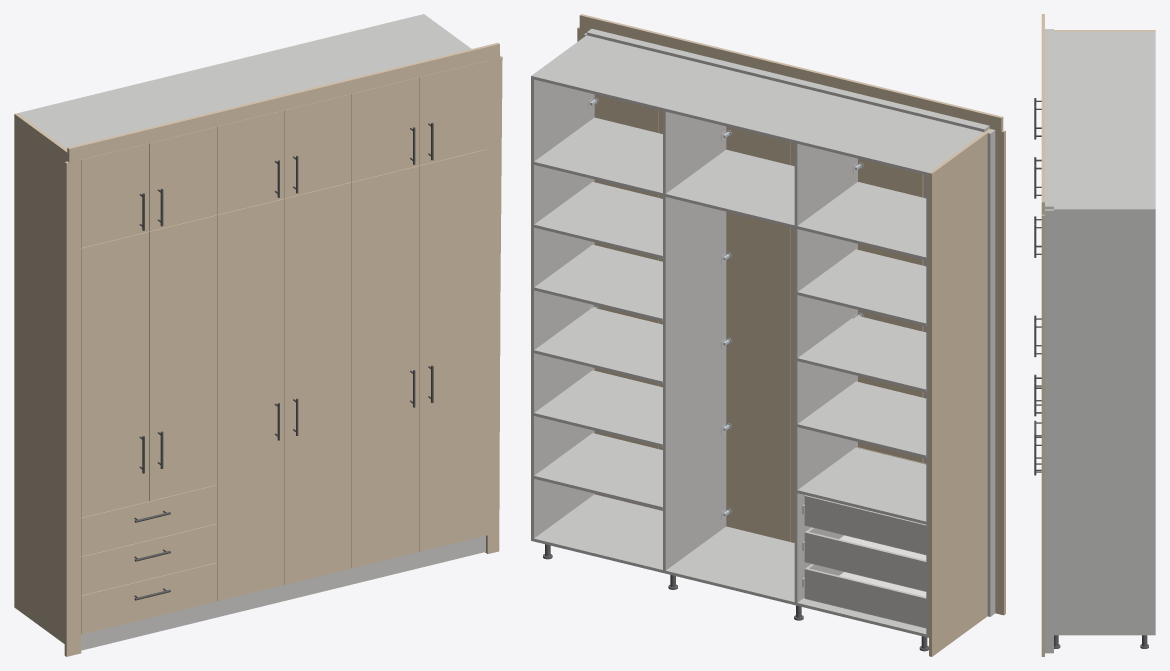
File: wardrobe_builtin.glb
The picture shows the model from 3 angles, left to right: view 1: azimuth 30°, elevation 25°; view 2: azimuth 150°, elevation 25°; view 3: azimuth 270°, elevation 25°; orthographic projection. The views are drawn at different scales.
Parts seen in each view (by area): view 1: 51:side_panel.left, 50:sections[2].doors.door[2], 49:sections[2].doors.door[1], 47:sections[1].doors.door[1], 48:sections[1].doors.door[2], 3:body.top, 45:sections[0].doors.door[1], 46:sections[0].doors.door[2], 52:builtin.filler.left, 56:builtin.filler.top, 54:builtin.filler.right, 5:body.plinth.front (+9 smaller); view 2: 51:side_panel.left, 3:body.top, 9:partition[1], 48:sections[1].doors.door[2], 6:mezzanine.shelf, 2:body.side.right, 4:body.bottom, 7:partition[0], 26:sections[0].divider[0], 29:sections[0].fill[1].shelf[3], 27:sections[0].fill[1].shelf[1], 28:sections[0].fill[1].shelf[2] (+21 smaller); view 3: 2:body.side.right, 3:body.top, 55:builtin.strip.right, 54:builtin.filler.right, 57:builtin.strip.top, 56:builtin.filler.top, 1:body.side.left, 51:side_panel.left.
Part boxes in pixels (<box>): 51:side_panel.left: <box>14,113,81,653</box>; 50:sections[2].doors.door[2]: <box>419,149,487,551</box>; 49:sections[2].doors.door[1]: <box>351,166,419,568</box>; 47:sections[1].doors.door[1]: <box>217,198,284,601</box>; 48:sections[1].doors.door[2]: <box>284,182,351,584</box>; 3:body.top: <box>21,15,468,147</box>; 45:sections[0].doors.door[1]: <box>81,231,148,517</box>; 46:sections[0].doors.door[2]: <box>149,215,216,501</box>; 52:builtin.filler.left: <box>64,160,78,656</box>; 56:builtin.filler.top: <box>67,42,499,162</box>; 54:builtin.filler.right: <box>486,55,502,553</box>; 5:body.plinth.front: <box>81,536,485,650</box>; 51:side_panel.left: <box>929,128,992,656</box>; 3:body.top: <box>534,36,980,174</box>; 9:partition[1]: <box>663,196,726,570</box>; 48:sections[1].doors.door[2]: <box>726,211,790,541</box>; 6:mezzanine.shelf: <box>534,117,926,260</box>; 2:body.side.right: <box>531,35,594,541</box>; 4:body.bottom: <box>534,494,926,636</box>; 7:partition[0]: <box>794,228,857,602</box>; 26:sections[0].divider[0]: <box>797,447,926,524</box>; 29:sections[0].fill[1].shelf[3]: <box>797,249,926,326</box>; 27:sections[0].fill[1].shelf[1]: <box>797,381,926,458</box>; 28:sections[0].fill[1].shelf[2]: <box>797,315,926,392</box>; 2:body.side.right: <box>1054,208,1155,635</box>; 3:body.top: <box>1054,32,1155,207</box>; 55:builtin.strip.right: <box>1045,209,1053,653</box>; 54:builtin.filler.right: <box>1041,214,1044,656</box>; 57:builtin.strip.top: <box>1045,29,1053,209</box>; 56:builtin.filler.top: <box>1041,14,1044,214</box>; 1:body.side.left: <box>1054,31,1155,32</box>; 51:side_panel.left: <box>1054,30,1155,31</box>.
Bounding box in the file's own units: 2.44 × 2.71 × 0.6578.
